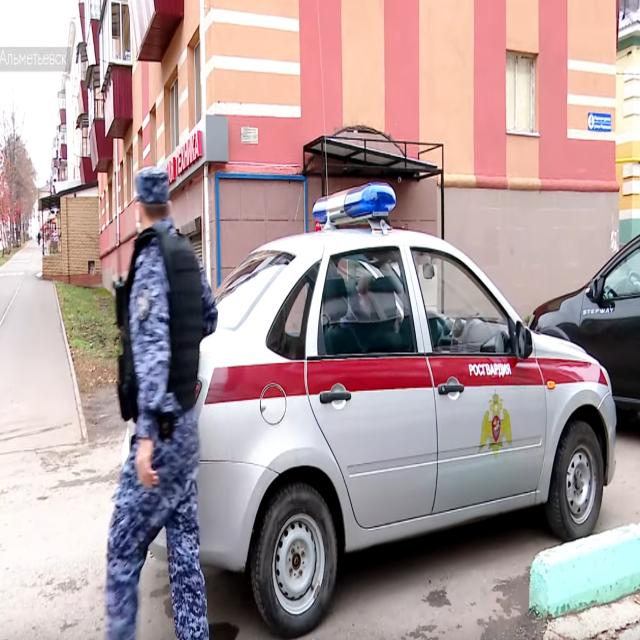non emergency car: (525, 232, 640, 419)
police car: (122, 180, 618, 640)
